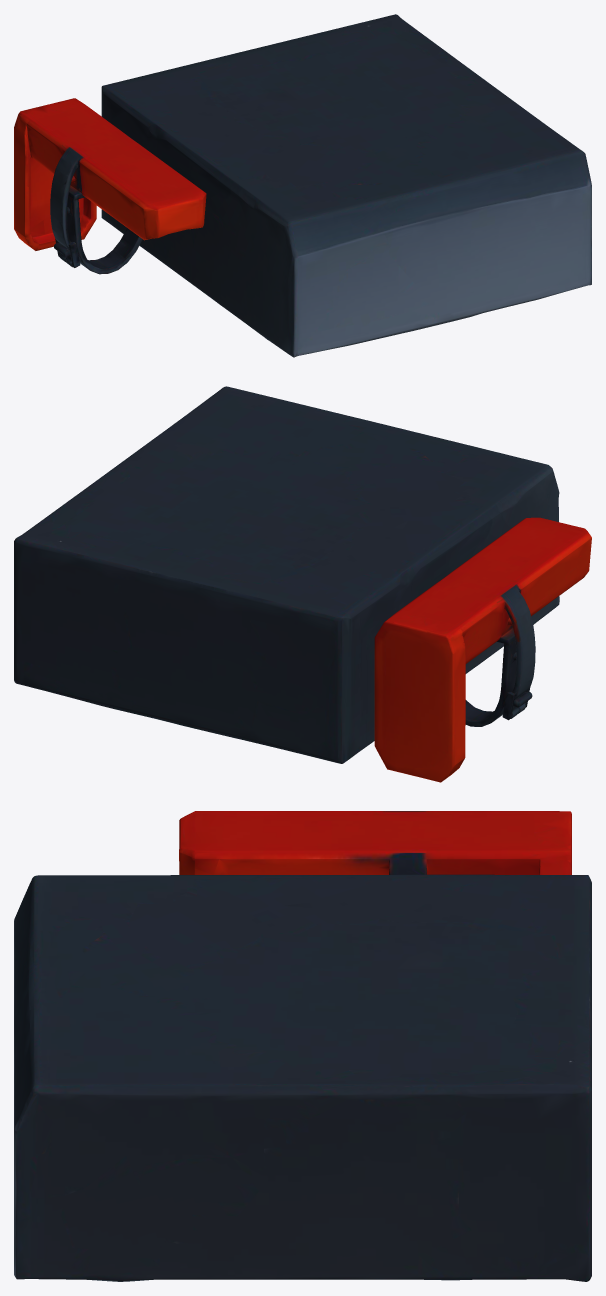
File: pozh_shkaf.glb
3 views of the same model, one above another, from view 1: azimuth 30°, elevation 25°; view 2: azimuth 150°, elevation 25°; view 3: azimuth 270°, elevation 25° (orthographic). The views are drawn at different scales.
Parts seen in each view (by area): view 1: pozh_shkaf; view 2: pozh_shkaf; view 3: pozh_shkaf.
Boxes of the visible parts, box(x1,y1,x2,y2) form: pozh_shkaf: box(14, 14, 591, 357); pozh_shkaf: box(14, 386, 591, 782); pozh_shkaf: box(14, 811, 591, 1281).
Size of the model in its own units: 1 by 0.342 by 0.8399.
1 material, 1 textured.
